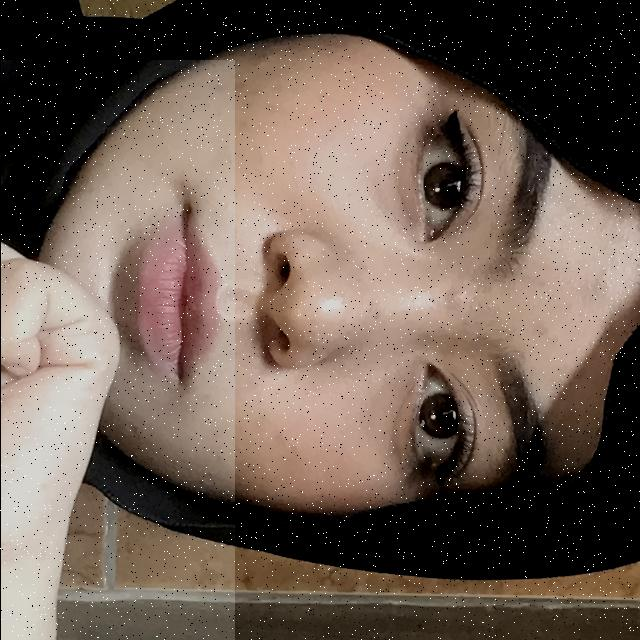sedih: (0, 60, 234, 640)
